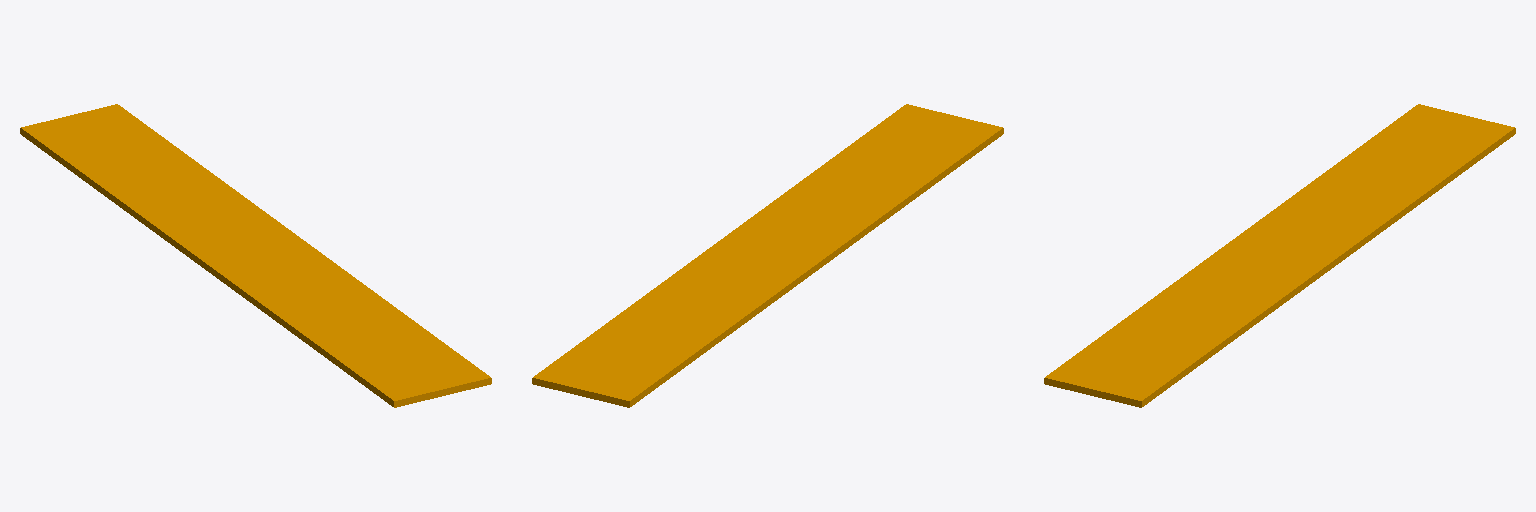
robot.urdf — concrete_slab:
<?xml version="1.0" ?>
<robot name="concrete_slab">
  <link name="concrete_slab">

    <visual>
      <origin xyz="0 0 0"/>
      <geometry>
        <box size="3 20 0.2"/>
      </geometry>
    </visual>


    <collision>
      <origin xyz="0 0 0"/>
      <geometry>
        <box size="3 20 0.2"/>
      </geometry>
    </collision>

    <inertial>
      <mass value="28800"/>
    </inertial>
  
  </link>
</robot>

--- Facts derived from the render (not from the file) ---
Views: 3 orthographic renders of the robot side by side, from view 1: azimuth 30°, elevation 25°; view 2: azimuth 150°, elevation 25°; view 3: azimuth 330°, elevation 25°.
Robot: concrete_slab — 1 links, 0 joints (none); root link concrete_slab; default pose: every joint at zero.
Visible links, largest first — view 1: concrete_slab; view 2: concrete_slab; view 3: concrete_slab.
Link boxes in pixels (box(x1,y1,x2,y2)): concrete_slab: box(20, 104, 491, 407); concrete_slab: box(532, 104, 1003, 407); concrete_slab: box(1044, 104, 1515, 407).
Size in the robot's own frame: 3 by 20 by 0.2 metres.
Geometry: primitives only (box / cylinder / sphere), no mesh files.